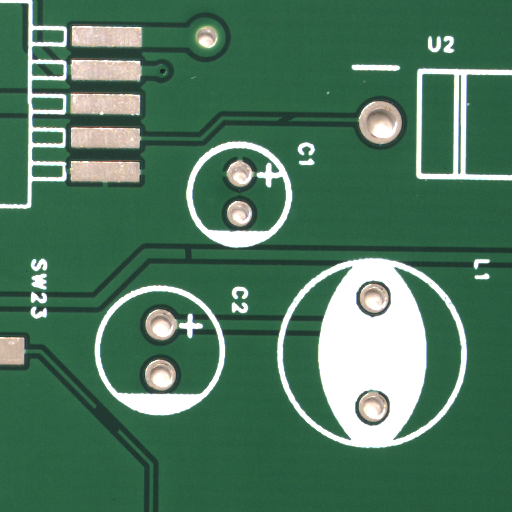Open_circuit: (107, 418, 130, 444), (287, 116, 305, 125), (188, 254, 195, 264)
